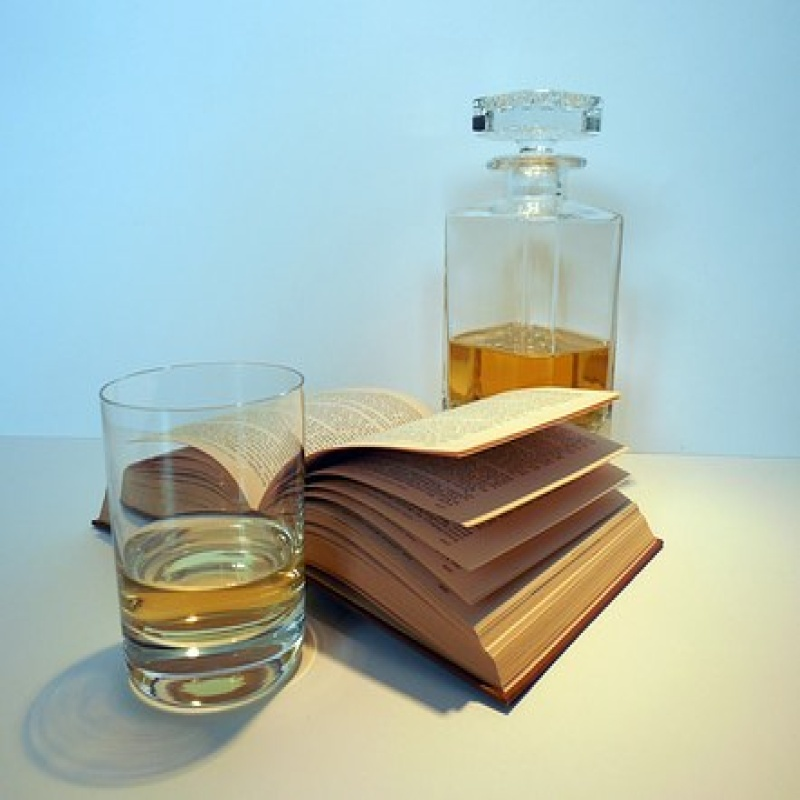whiskey: (100, 357, 309, 711)
